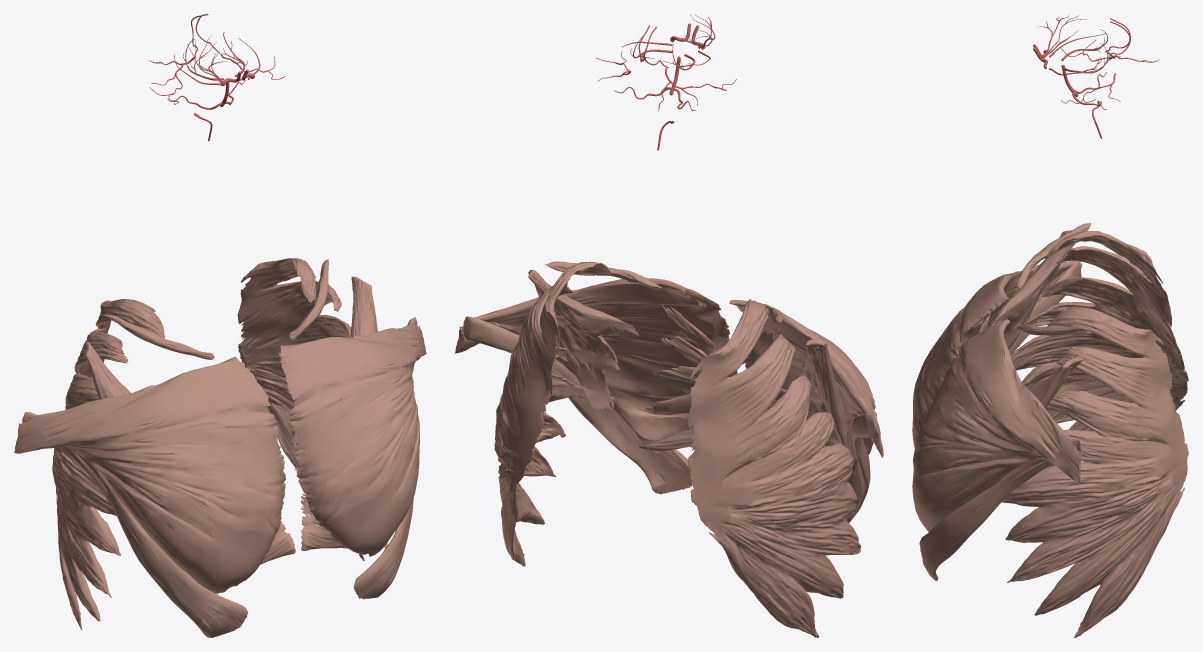
The model's file is thorax-0.glb.
The picture shows the model from 3 angles, left to right: view 1: azimuth 30°, elevation 25°; view 2: azimuth 150°, elevation 25°; view 3: azimuth 270°, elevation 25°; orthographic projection. The views are drawn at different scales.
Parts seen in each view (by area): view 1: FJ1464, FJ1464M, FJ1459, FJ1459M, FJ1446, FJ1446M, FJ1456M, FJ1461M, FJ1456, FJ1460, FJ1460M, FJ1461; view 2: FJ1459, FJ1464M, FJ1459M, FJ1446M, FJ1456M, FJ1464, FJ1461M, FJ1456, FJ1446, FJ1460M, FJ1461; view 3: FJ1459M, FJ1464M, FJ1459, FJ1464, FJ1446M, FJ1456, FJ1456M, FJ1446, FJ1460, FJ1460M.
Part boxes in pixels (<box>): FJ1464: <box>14,356,285,593</box>; FJ1464M: <box>278,322,426,556</box>; FJ1459: <box>52,299,164,629</box>; FJ1459M: <box>237,258,387,560</box>; FJ1446: <box>22,412,248,637</box>; FJ1446M: <box>353,317,417,599</box>; FJ1456M: <box>350,276,377,337</box>; FJ1461M: <box>290,428,347,550</box>; FJ1456: <box>84,341,130,399</box>; FJ1460: <box>100,314,214,359</box>; FJ1460M: <box>289,259,328,339</box>; FJ1461: <box>260,521,295,564</box>; FJ1459: <box>687,299,860,637</box>; FJ1464M: <box>455,278,737,453</box>; FJ1459M: <box>494,261,611,566</box>; FJ1446M: <box>463,316,691,494</box>; FJ1456M: <box>528,270,639,410</box>; FJ1464: <box>729,300,883,476</box>; FJ1461M: <box>638,304,714,450</box>; FJ1456: <box>799,339,848,448</box>; FJ1446: <box>847,413,875,522</box>; FJ1460M: <box>544,261,663,290</box>; FJ1461: <box>742,330,825,447</box>; FJ1459M: <box>1002,307,1188,637</box>; FJ1464M: <box>912,319,1082,531</box>; FJ1459: <box>1010,230,1188,467</box>; FJ1464: <box>912,260,1082,448</box>; FJ1446M: <box>919,439,1081,581</box>; FJ1456: <box>990,230,1075,349</box>; FJ1456M: <box>1028,357,1083,408</box>; FJ1446: <box>1009,260,1081,354</box>; FJ1460: <box>1016,223,1090,291</box>; FJ1460M: <box>1016,324,1090,335</box>.
Bounding box in the file's own units: 0.3757 × 0.4945 × 0.2246.
